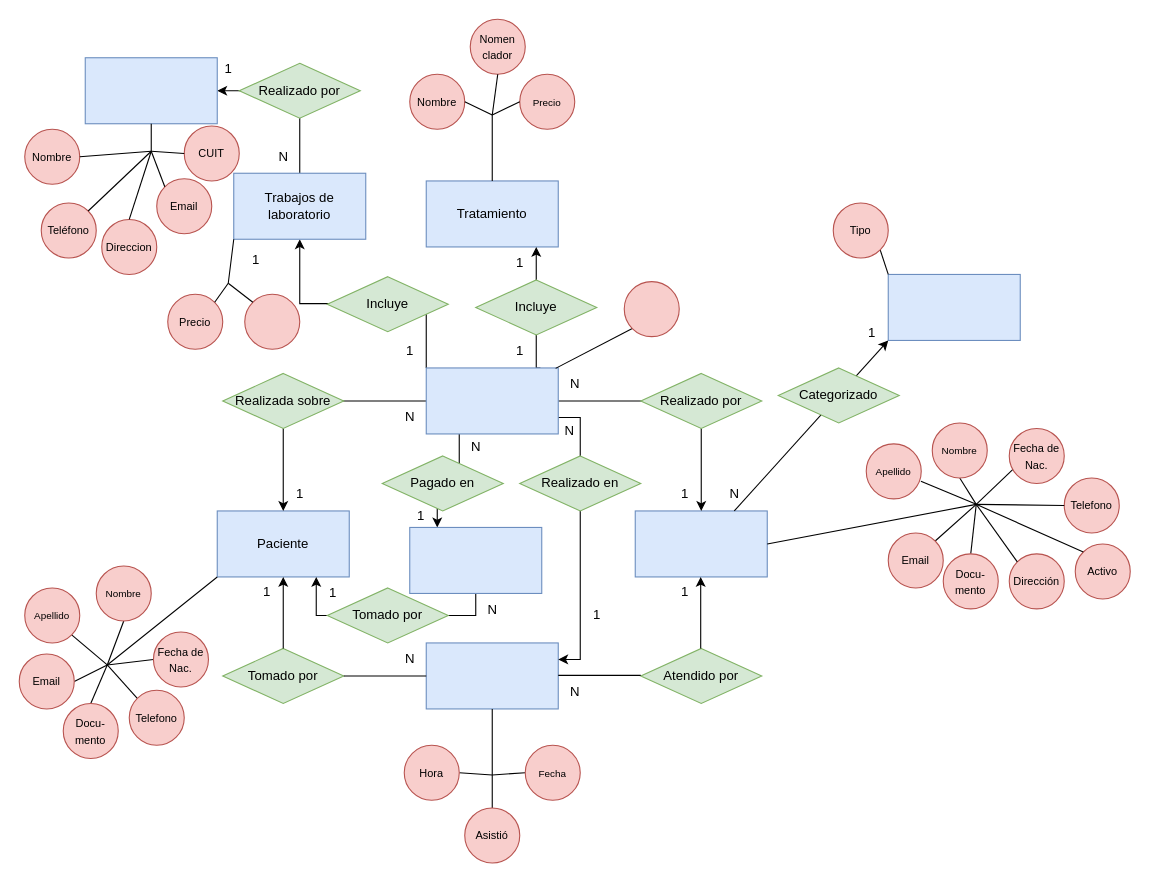
Image size: 1150x882. Some labels were removed from this diagram. The centre of each missing label's shape, as x and y in pixels:
"Descrip-cion" goes at [651,308].
"Empleado" goes at [700,543].
"Estado" goes at [272,321].
"Evoluciones" goes at [491,400].
"Facturación" goes at [475,559].
"Laboratorio" goes at [150,90].
"Tipo de empleado" goes at [953,306].
"Turno" goes at [491,675].
